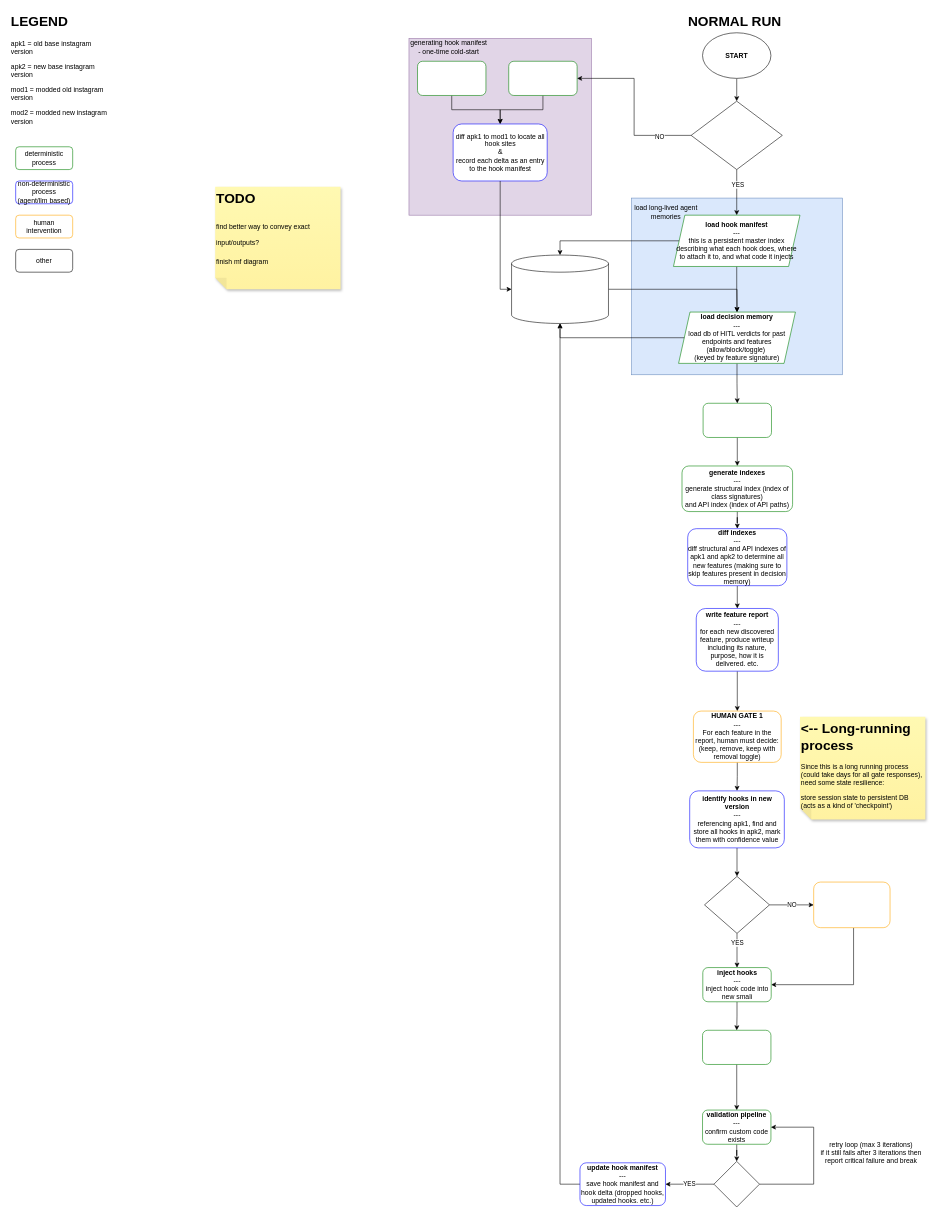
This 938x1217 diagram has some shape labels left out. Here are the shapes that lost their labels. From the top down, the centre of each, then its label:
At point 451,78: "decompile mod1".
At point 542,78: "decompile apk1".
At point 736,135: "does hook manifest exist? (aka not a cold start)".
At point 559,289: "Persistent storage (hook manifests, decision memory)".
At point 737,420: "apktool decompile --- decompile apk1 and apk2 using apktool".
At point 736,904: "does every hook have confidence > 80%?".
At point 851,905: "HUMAN GATE 2 --- manually review (approve,modify,drop) agent identified hooks".
At point 736,1047: "build apk --- using apktool build newly modified apk".
At point 736,1184: "does validation pass?".
